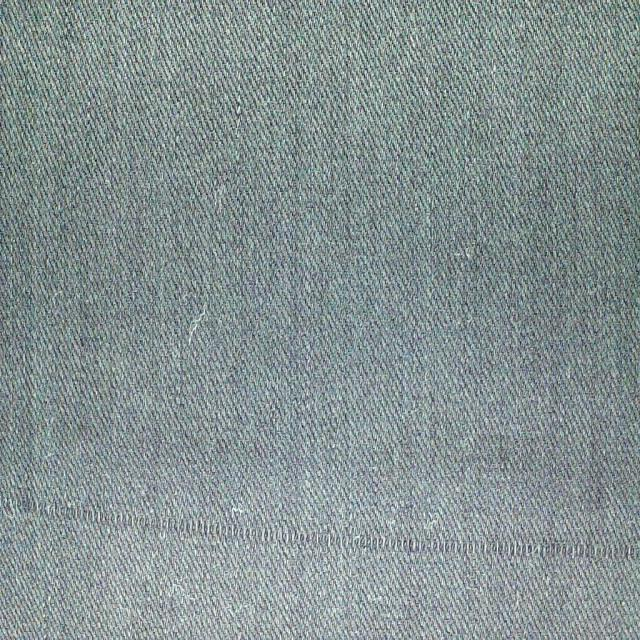Line: (0, 490, 640, 564)
